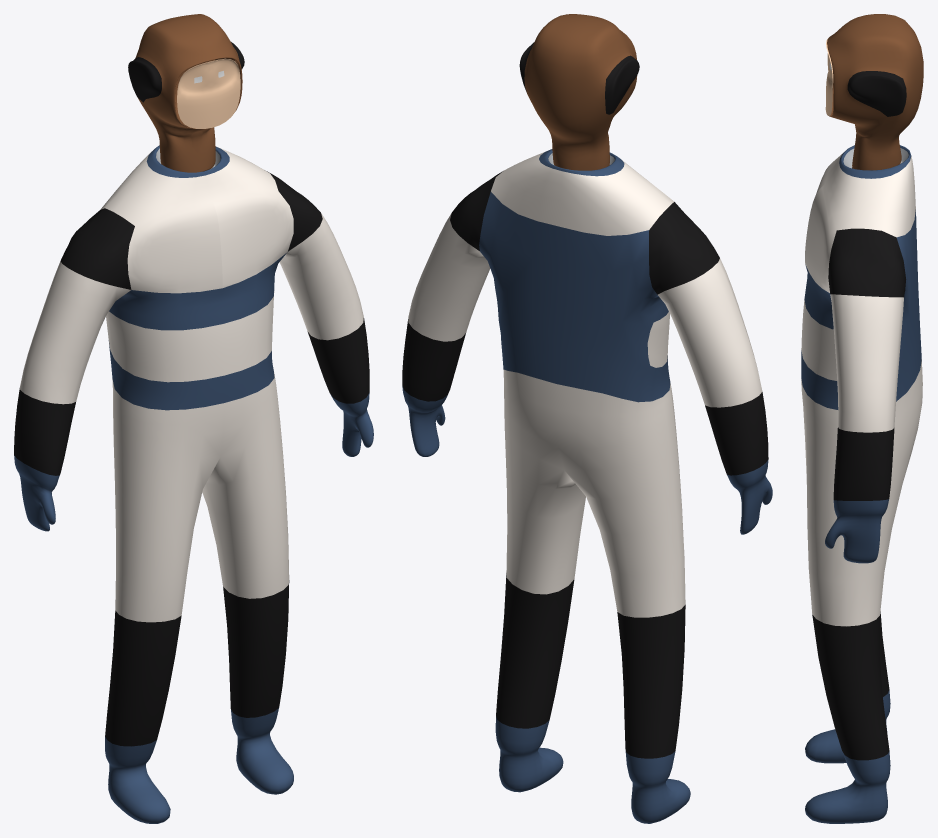
File: kanta_008.fbx
The picture shows the model from 3 angles, left to right: view 1: azimuth 30°, elevation 25°; view 2: azimuth 150°, elevation 25°; view 3: azimuth 270°, elevation 25°; orthographic projection. The views are drawn at different scales.
Visible parts, largest first — view 1: Kanta; view 2: Kanta; view 3: Kanta.
Part boxes in pixels (left/top/right/bottom): Kanta: left=14, top=14, right=373, bottom=823; Kanta: left=402, top=14, right=772, bottom=823; Kanta: left=801, top=14, right=923, bottom=823.
Bounding box in the file's own units: 260 × 551 × 79.79.
